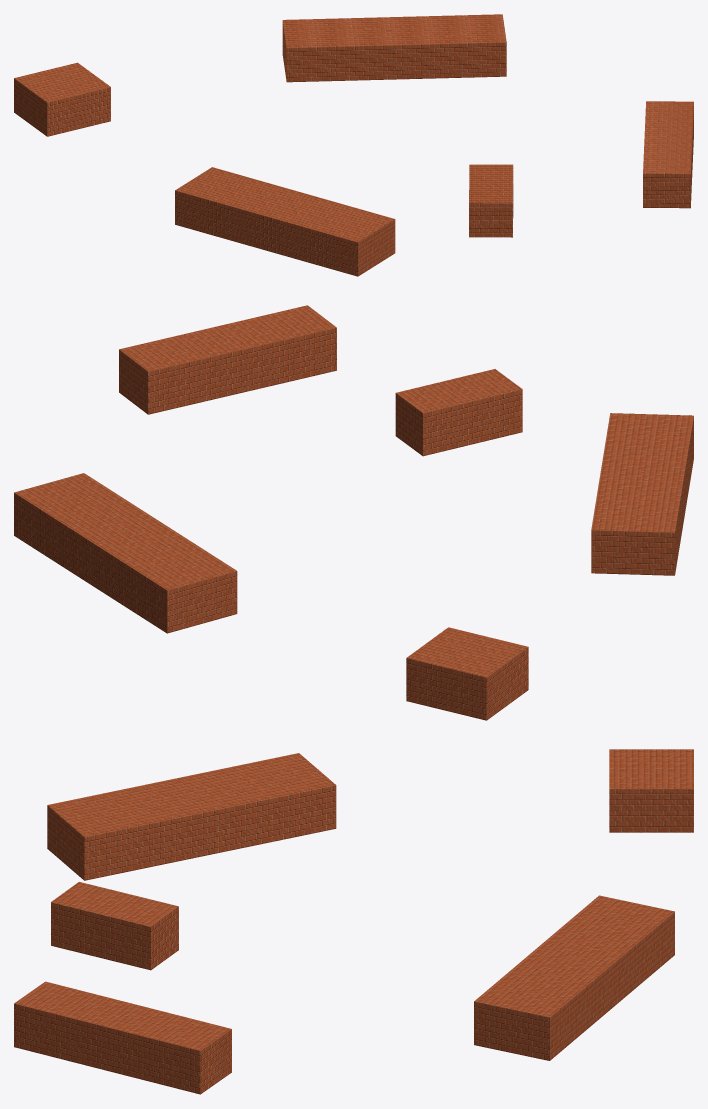
Rendered from wall.fbx.
3 renders of one model, top to bottom at view 1: azimuth 30°, elevation 25°; view 2: azimuth 150°, elevation 25°; view 3: azimuth 270°, elevation 25°, orthographic. The views are drawn at different scales.
Parts seen in each view (by area): view 1: polySurface86; view 2: polySurface86; view 3: polySurface86.
Boxes of the visible parts, x1=… form: polySurface86: x1=14, y1=14, x2=693, y2=276; polySurface86: x1=14, y1=305, x2=693, y2=720; polySurface86: x1=14, y1=749, x2=693, y2=1094.
Size of the model in its own units: 74.17 by 5 by 70.68.
